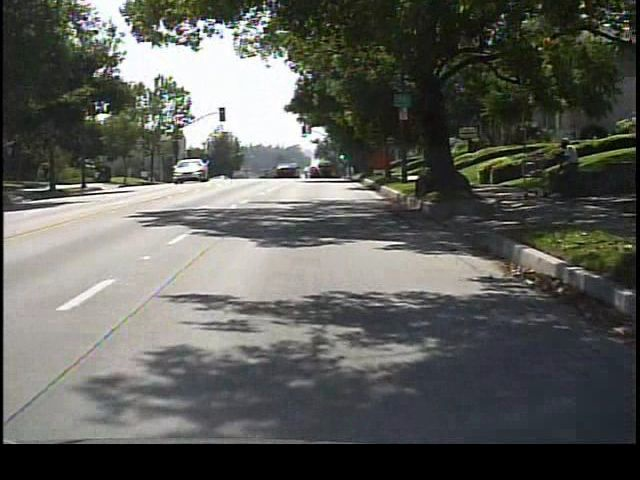person: (551, 135, 584, 207)
